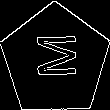M_W: (31, 37, 80, 84)
